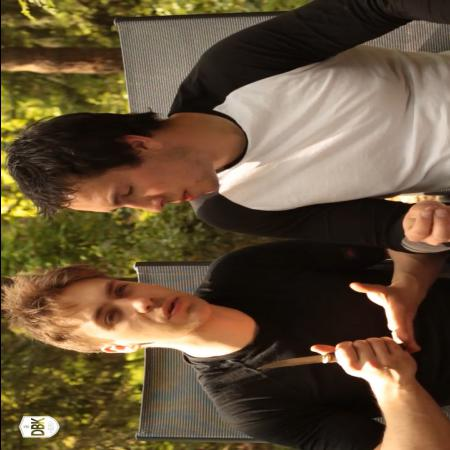long weapon: (243, 335, 372, 382)
